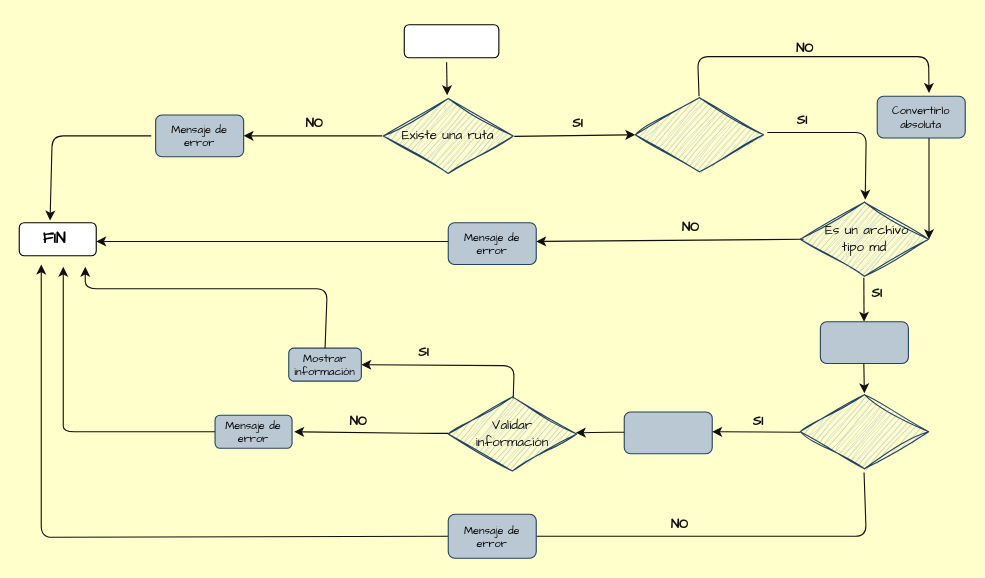
Some shapes in this 985 by 578 pixel diagram are drawn without their labels. The box of each missing label's shape, as (x1, y1, x2, y2) in pixels:
Creo la función para extraerlos: (623, 411, 712, 454)
El documento tiene link: (799, 392, 929, 470)
Es una ruta absoluta o relativa: (634, 95, 764, 173)
INICIO: (403, 24, 499, 58)
Leer el docuemnto: (819, 321, 908, 364)
